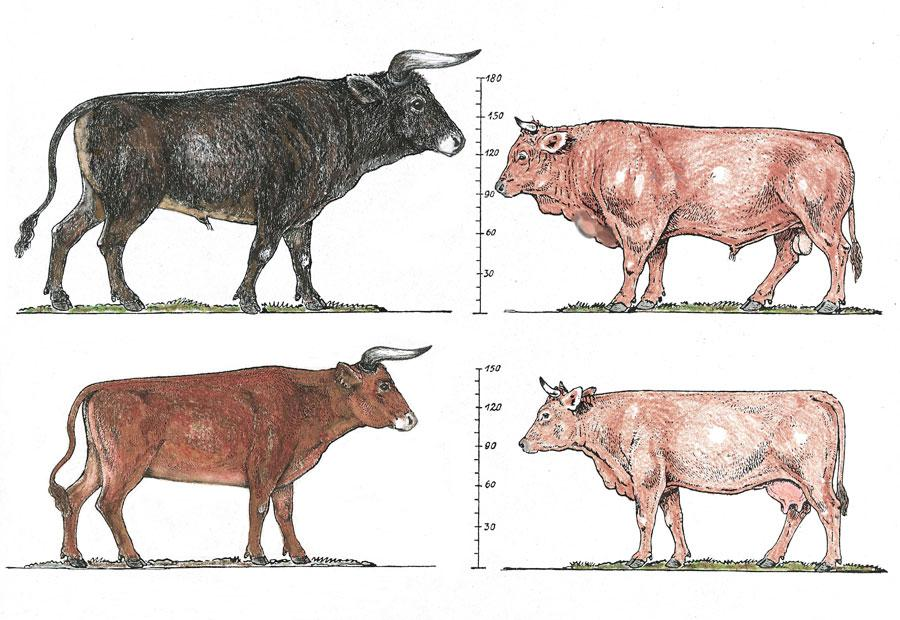cow: (45, 72, 463, 313), (62, 362, 419, 569), (495, 121, 853, 313), (519, 387, 844, 570)
